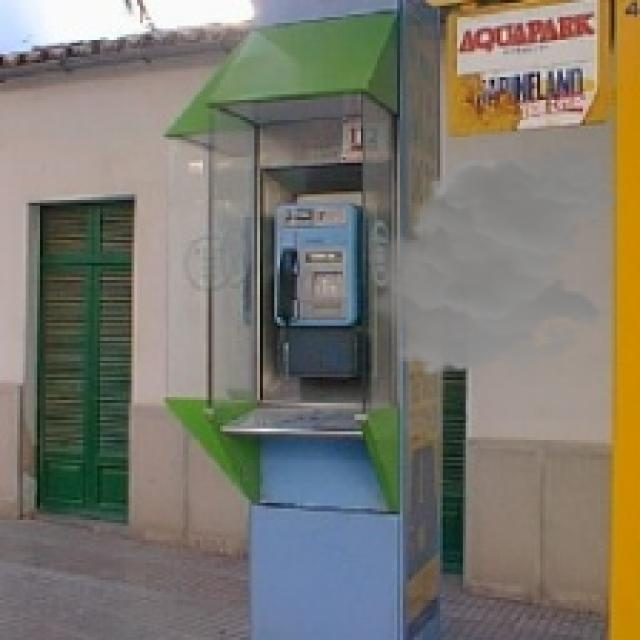Smoke: (360, 146, 617, 377)
